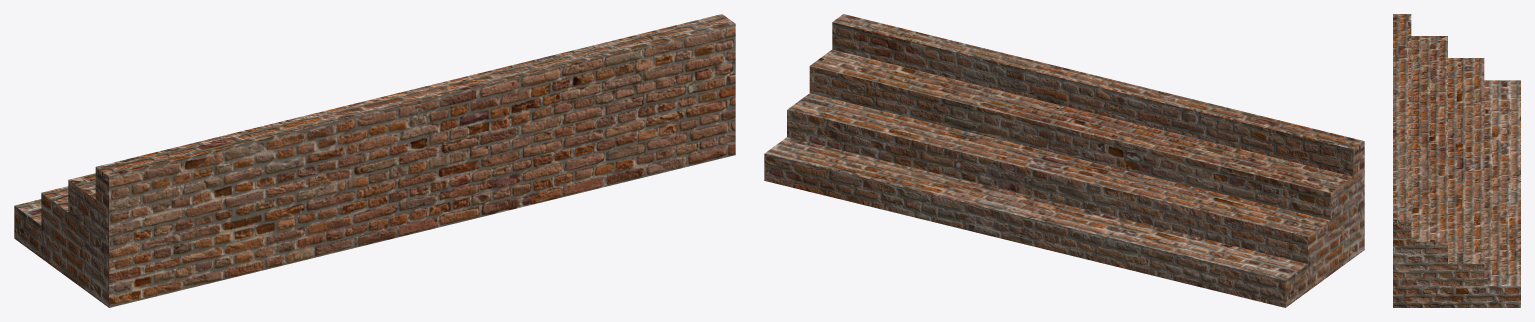
Rendered from BasicSeat.glb.
3 renders of one model, left to right at view 1: azimuth 30°, elevation 25°; view 2: azimuth 150°, elevation 25°; view 3: azimuth 270°, elevation 25°, orthographic. The views are drawn at different scales.
Visible parts, largest first — view 1: BrickSeat; view 2: BrickSeat; view 3: BrickSeat.
Part boxes in pixels (x1,y1,x2,y2): BrickSeat: (14,14,735,307); BrickSeat: (764,14,1364,307); BrickSeat: (1393,14,1520,307).
Size of the model in its own units: 20 by 4 by 5.25.
Materials: 1 (1 with a texture image).
